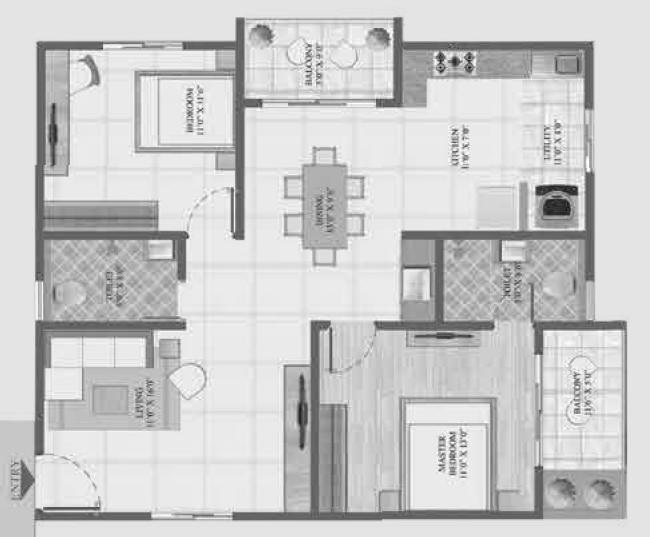Balcony: (538, 332, 626, 513), (240, 21, 399, 98)
Bed: (402, 400, 492, 510), (138, 75, 234, 149)
Bedroom: (318, 328, 538, 513), (41, 51, 235, 231)
Dining Room: (243, 102, 399, 321)
Dining table: (285, 144, 365, 274)
Kitchen: (400, 46, 525, 232)
Living Room: (43, 331, 312, 512)
Sofa: (46, 334, 152, 368), (43, 338, 88, 399)
Wardrobe: (42, 203, 158, 229), (322, 404, 349, 514)
commode: (48, 281, 88, 309), (542, 272, 580, 296)
door: (36, 456, 103, 512), (264, 92, 376, 116), (328, 320, 377, 372), (188, 185, 233, 232), (135, 276, 183, 318), (492, 282, 532, 328), (532, 354, 545, 467)
fridge: (473, 182, 518, 231)
kitchen-slab: (402, 50, 588, 79), (402, 48, 427, 107)
sink: (531, 52, 580, 80), (402, 270, 430, 298), (144, 238, 175, 260), (496, 242, 530, 261)
stove: (431, 50, 477, 77)
toilet: (441, 238, 592, 324), (41, 238, 179, 322)
tv: (285, 369, 313, 464), (42, 85, 65, 169), (409, 328, 482, 348)
utility: (524, 52, 591, 231)
washing-machine: (534, 183, 581, 231)
